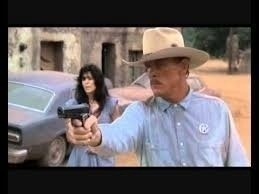pistol: (56, 102, 92, 128)
